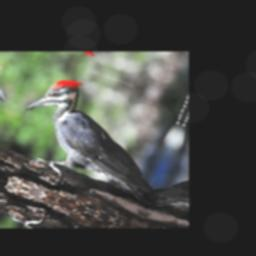Woodpecker: (4, 67, 183, 207)
